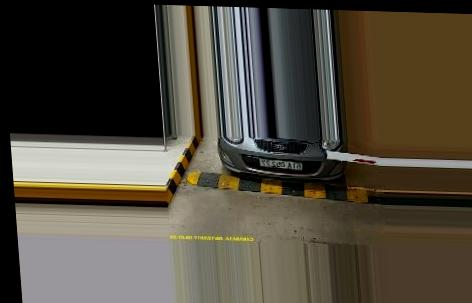License_Plate: (259, 159, 304, 171)
